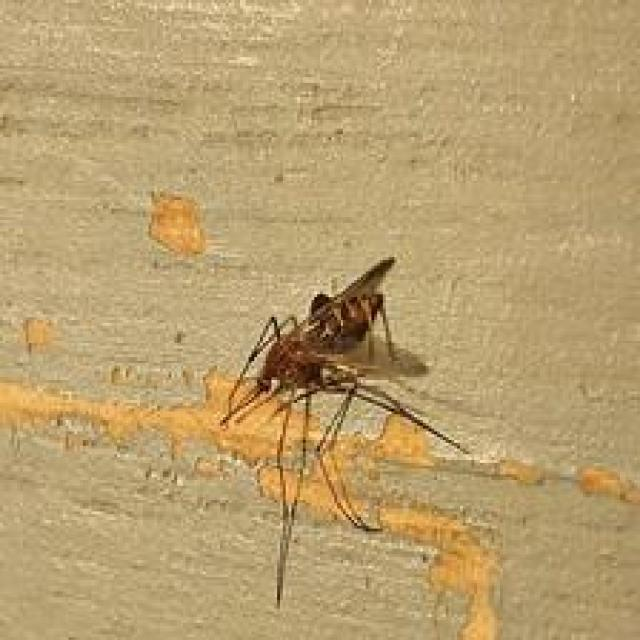Culex: (216, 254, 473, 609)
